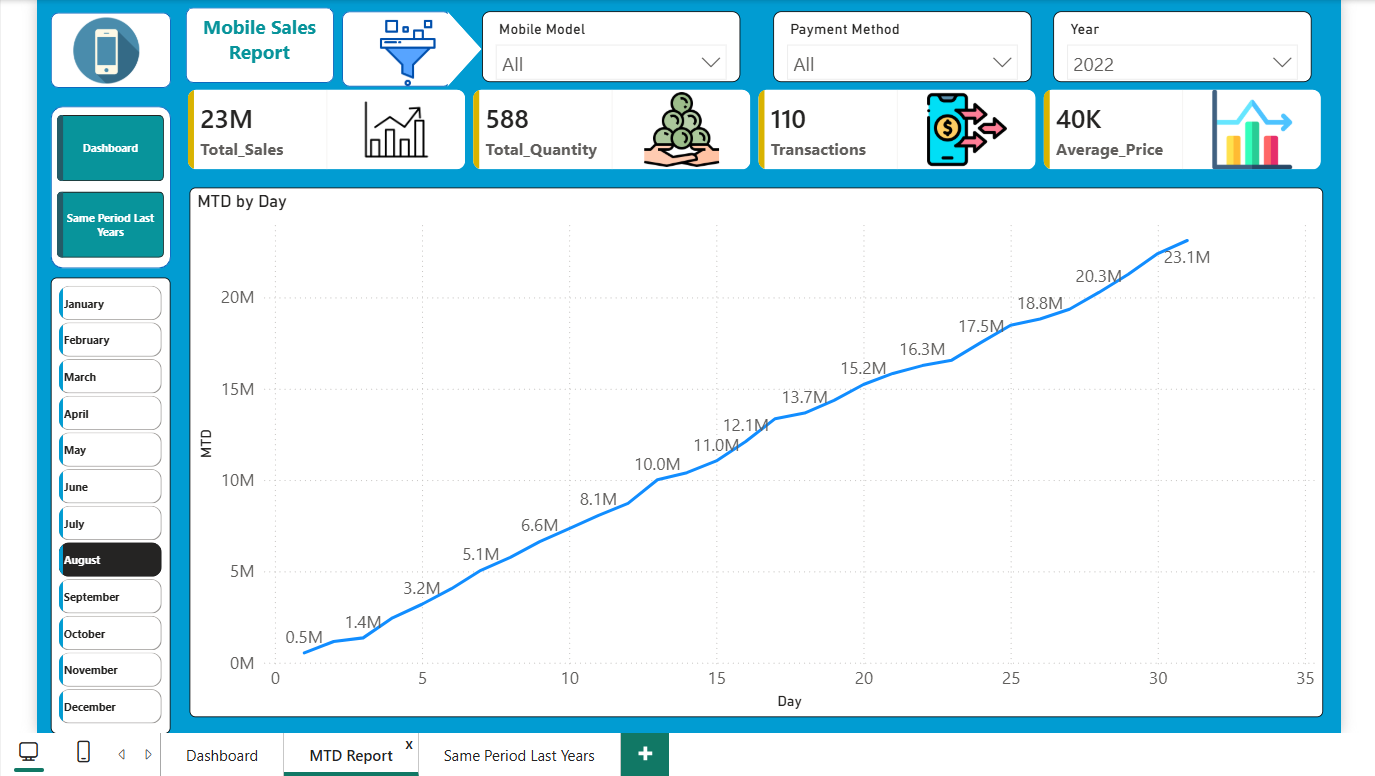

The dashboard page shown, as its layout file describes it:
{"tool":"powerbi","page":{"name":"MTD Report","canvas":[1280,720],"ordinal":1},"visuals":[{"type":"shape","box":[299.1,11,107,74.1],"z":0},{"type":"shape","box":[13.7,12.3,118,74.1],"z":1000},{"type":"shape","box":[13.7,104.3,118,159.2],"z":2000},{"type":"cardVisual","fields":{"Data":["Mobiles_Sales_Report.Total_Sales","Mobiles_Sales_Report.Total_Quantity","Mobiles_Sales_Report.Transactions","Mobiles_Sales_Report.Average_Price"]},"box":[131.7,71.4,1148.5,112.5],"z":3000},{"type":"slicer","fields":{"Values":["Mobiles_Sales_Report.Mobile Model"]},"box":[436.4,11,253.9,70],"z":4000},{"type":"slicer","fields":{"Values":["Mobiles_Sales_Report.Payment Method"]},"box":[723.2,11,253.9,70],"z":5000},{"type":"slicer","fields":{"Values":["Custom_Calender.Date.Variation.Date Hierarchy.Year"]},"box":[997.6,11,253.9,70],"z":6000},{"type":"shape","box":[369.1,11,67.2,74.1],"z":7000},{"type":"image","box":[323.8,17.8,79.6,67.2],"z":8000},{"type":"shape","box":[145.5,6.9,145.5,74.1],"z":9000},{"type":"textbox","box":[149.6,8.2,137.2,70],"z":10000},{"type":"lineChart","fields":{"Y":["Mobiles_Sales_Report.MTD"],"Category":["Custom_Calender.Date.Variation.Date Hierarchy.Year","Custom_Calender.Date.Variation.Date Hierarchy.Quarter","Custom_Calender.Date.Variation.Date Hierarchy.Month","Custom_Calender.Date.Variation.Date Hierarchy.Day"]},"box":[149.7,184.1,1112.9,520.2],"z":11000},{"type":"advancedSlicerVisual","fields":{"Values":["Custom_Calender.Date.Variation.Date Hierarchy.Month"]},"box":[13.5,272.4,117.8,447.9],"z":12000},{"type":"pageNavigator","box":[19.6,112.9,105.5,141.1],"z":13000},{"type":"image","box":[19.6,17.2,96.9,65],"z":14000}]}

Visuals, with their boxes on the page's 1280x720 design canvas (x1, y1, x2, y2). These are canvas units, not pixel positions in the 1375x776 screenshot, which may show the page scaled, cropped or inside an application window:
shape: 299/11/406/85
shape: 14/12/132/86
shape: 14/104/132/264
cardVisual - Mobiles_Sales_Report.Total_Sales x Mobiles_Sales_Report.Total_Quantity: 132/71/1280/184
slicer - Mobiles_Sales_Report.Mobile Model: 436/11/690/81
slicer - Mobiles_Sales_Report.Payment Method: 723/11/977/81
slicer - Custom_Calender.Date.Variation.Date Hierarchy.Year: 998/11/1252/81
shape: 369/11/436/85
image: 324/18/403/85
shape: 146/7/291/81
textbox: 150/8/287/78
lineChart - Mobiles_Sales_Report.MTD x Custom_Calender.Date.Variation.Date Hierarchy.Year: 150/184/1263/704
advancedSlicerVisual - Custom_Calender.Date.Variation.Date Hierarchy.Month: 14/272/131/720
pageNavigator: 20/113/125/254
image: 20/17/116/82
